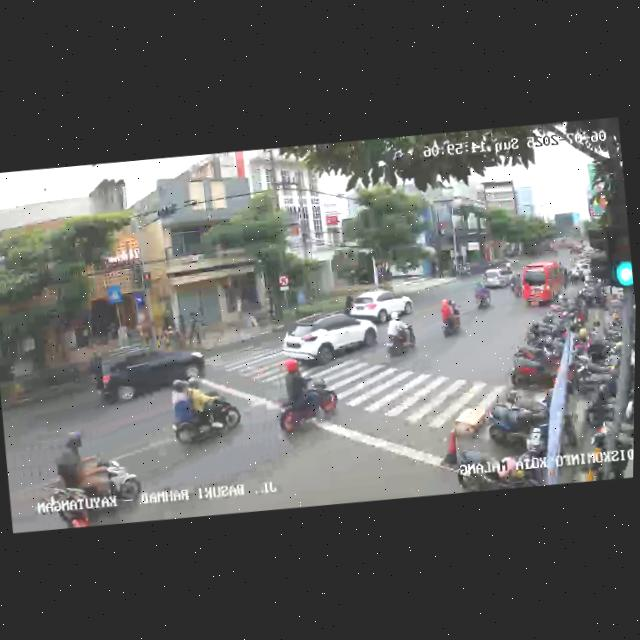car: (91, 337, 211, 411), (283, 306, 378, 371), (518, 258, 571, 311), (348, 286, 414, 326), (480, 265, 516, 291)
motorcycle: (37, 433, 142, 526), (164, 373, 243, 451), (268, 358, 340, 443), (382, 311, 419, 361), (436, 296, 465, 340), (471, 280, 493, 312), (508, 271, 523, 298)
